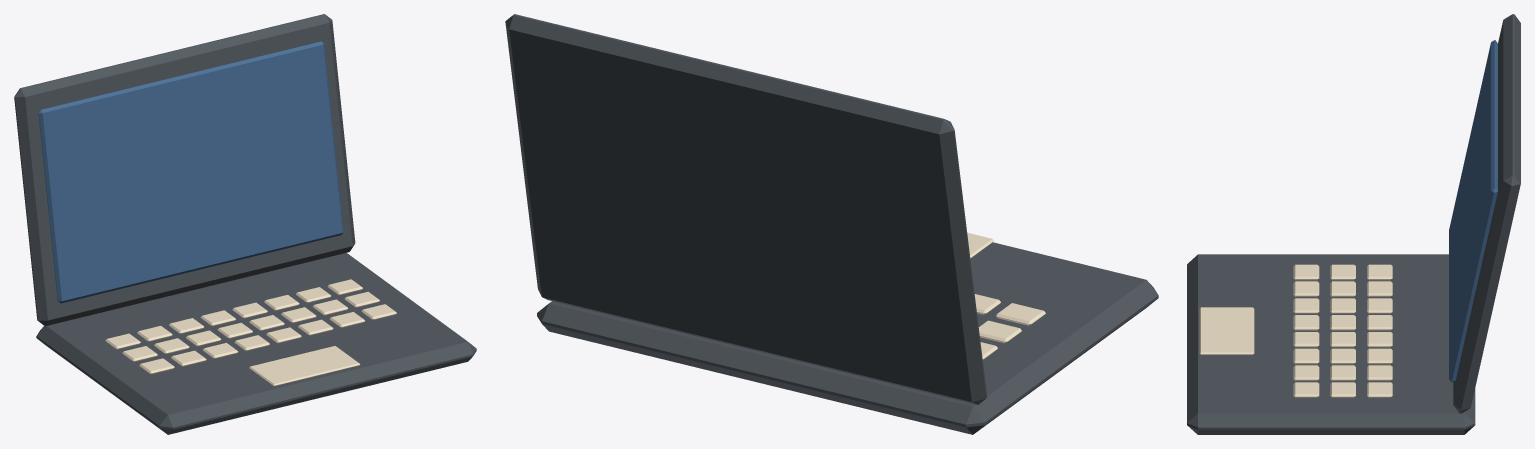
Rendered from laptop.glb.
3 views of the same model, side by side, from view 1: azimuth 30°, elevation 25°; view 2: azimuth 150°, elevation 25°; view 3: azimuth 270°, elevation 25° (orthographic). The views are drawn at different scales.
Parts seen in each view (by area): view 1: laptop; view 2: laptop; view 3: laptop.
Boxes of the visible parts, x1,y1,x2,y2 form: laptop: (14,14,476,434); laptop: (505,14,1158,434); laptop: (1187,14,1520,434).
Bounding box in the file's own units: 0.4 × 0.2898 × 0.3359.
